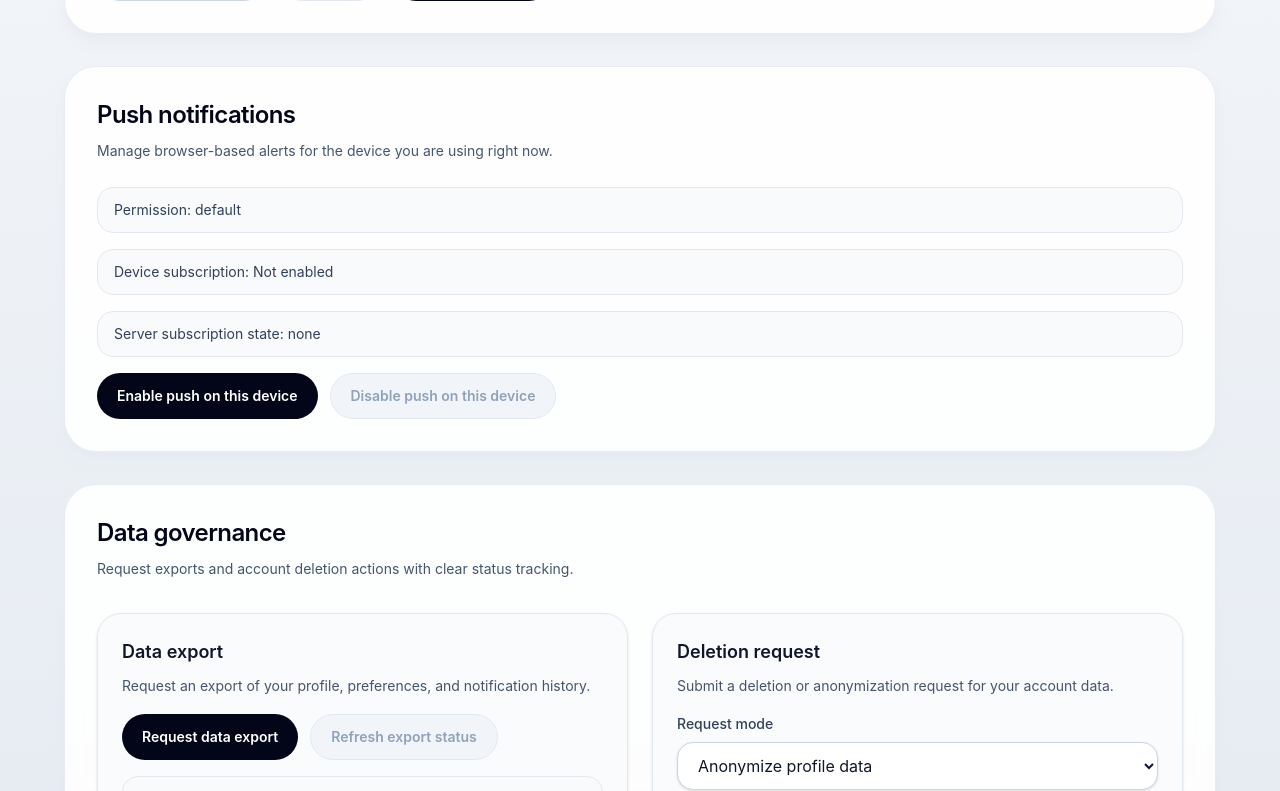
Test case: SettingsPreferencesForm › subscribes push on explicit user action
The width and height of the screenshot is (1280, 791).
(page scrolled)
Click the button "Enable push on this device".
click(207, 396)  # box top-left (97, 373), bottom-right (318, 419)
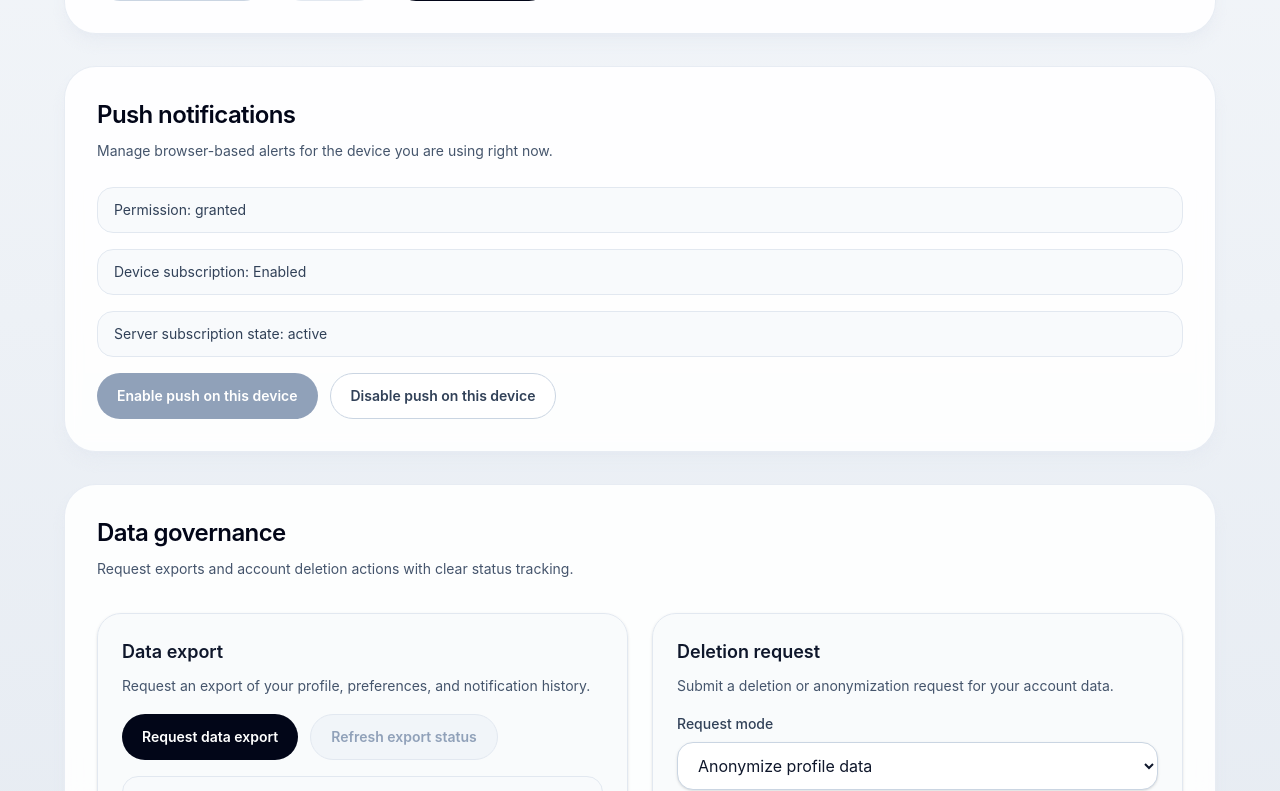
Check: the text "Device subscription: Enabled" is shown, box top-left (97, 249), bottom-right (1183, 295)
Check: the text "Server subscription state: active" is shown, box top-left (97, 311), bottom-right (1183, 357)
Check: the button "Disable push on this device" is enabled, box top-left (330, 373), bottom-right (556, 419)
